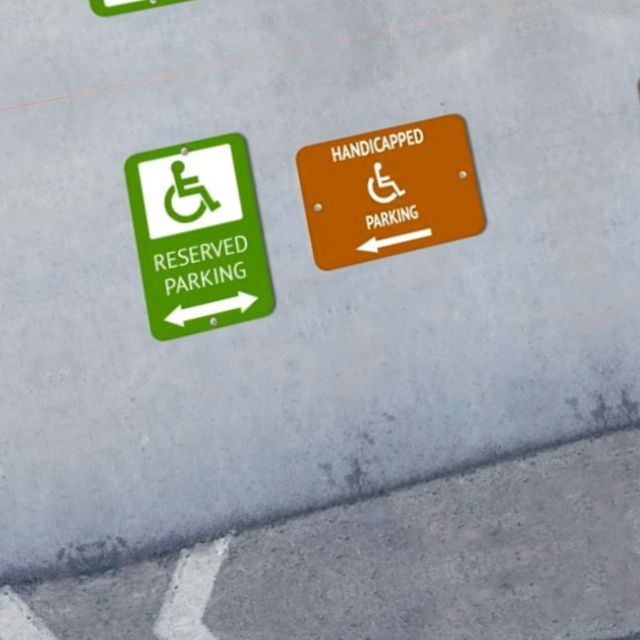ISA: (151, 149, 234, 233), (358, 152, 411, 212), (103, 0, 186, 0)
